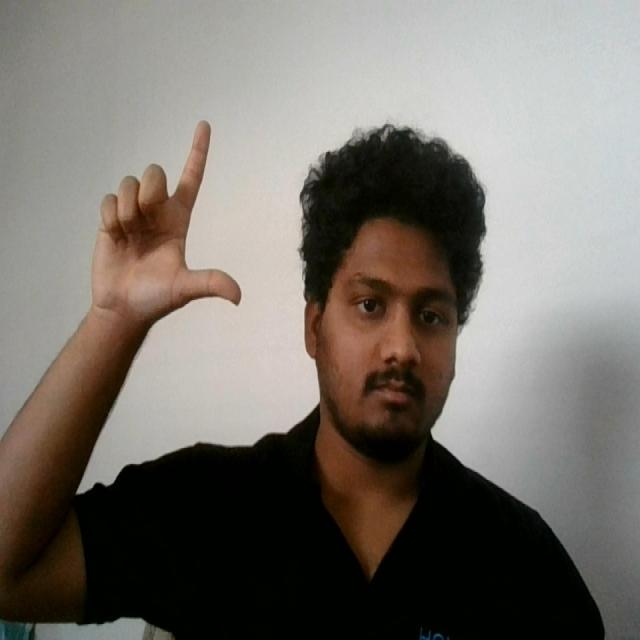IloveYou: (76, 108, 250, 343)
